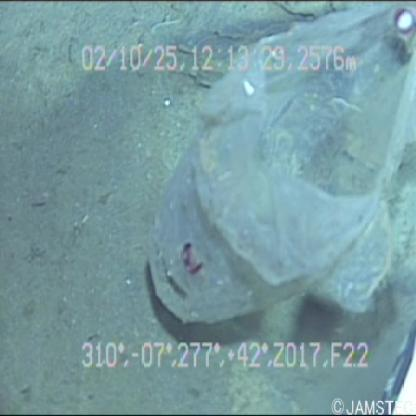Rác: (125, 4, 416, 347)
